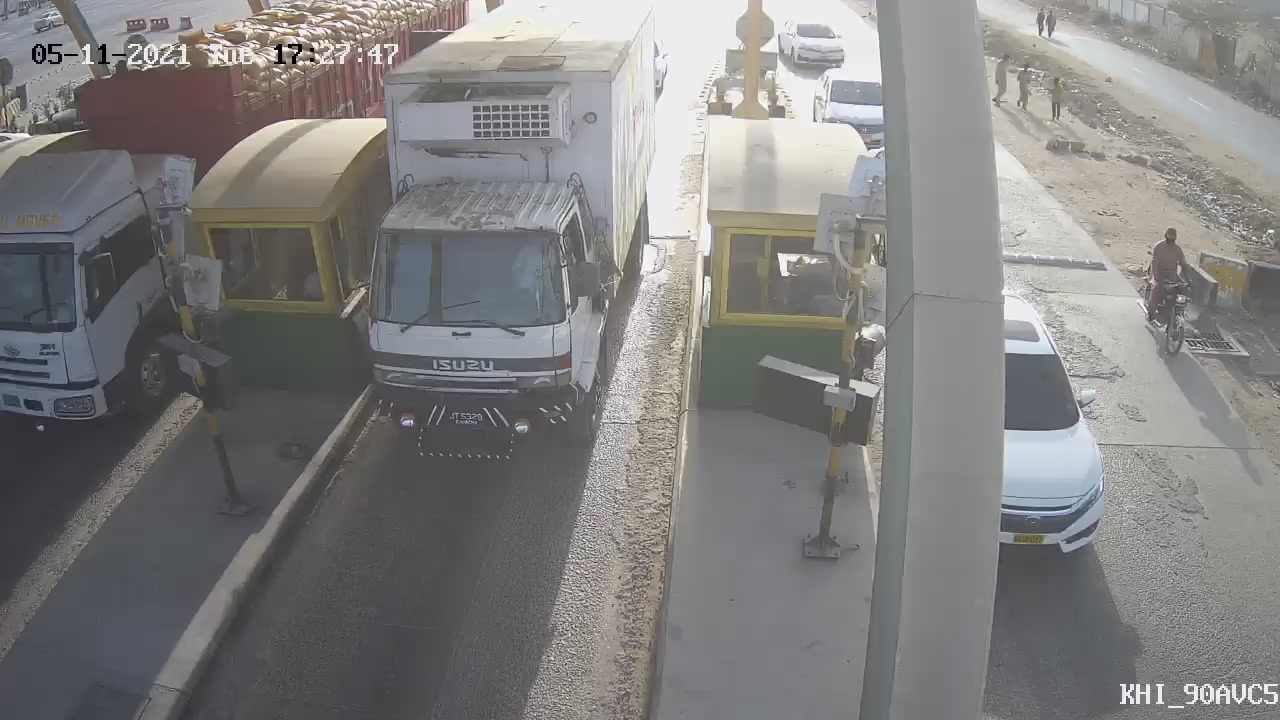F5: (305, 1, 688, 483)
